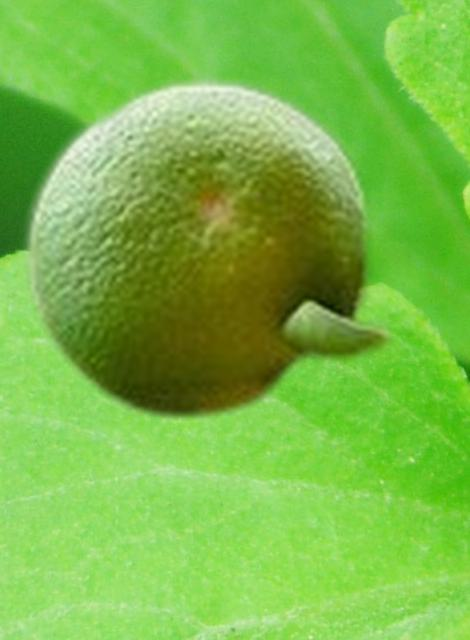dalandan: (19, 71, 397, 421)
